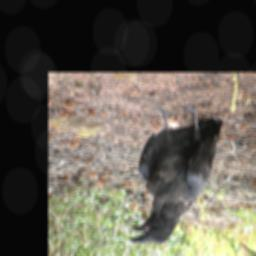Crow: (128, 103, 225, 245)
